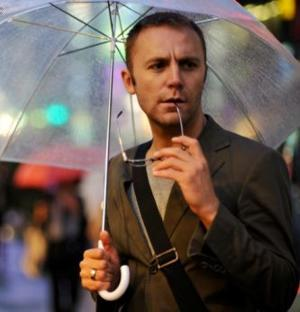person: (79, 11, 299, 312)
